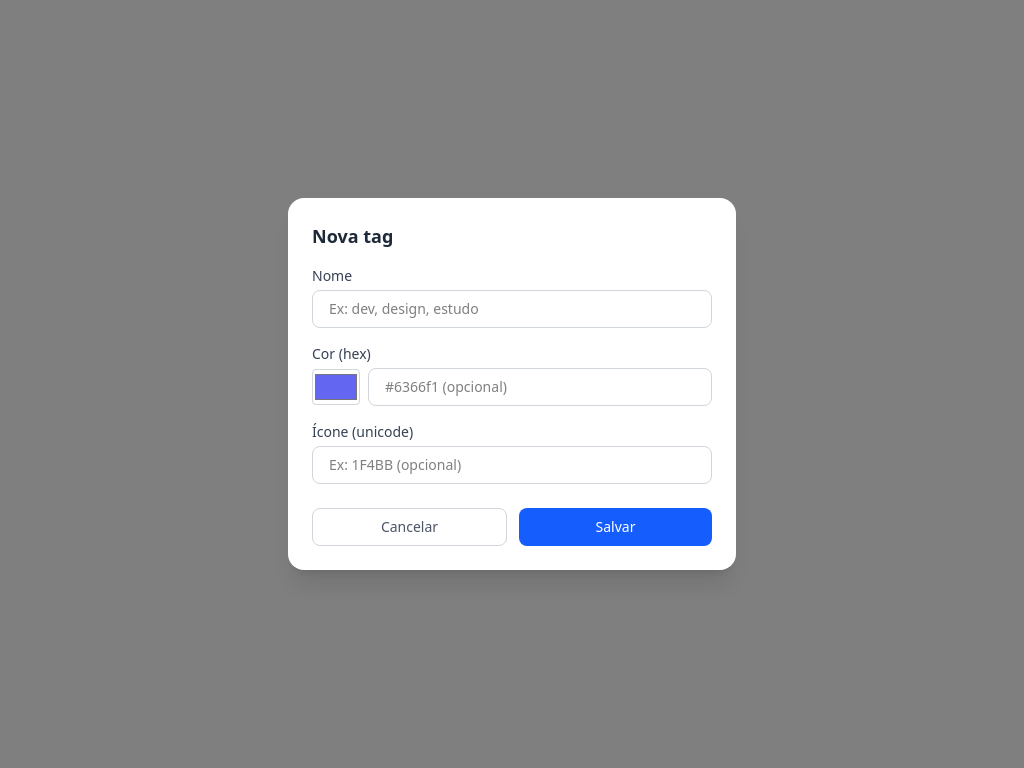
Test: TagModal › criação de tag › deve exibir erro quando a API falhar
Type "dev" into the field with placeholder "Ex: dev, design, estudo". click: (512, 309)
box: [312,290,712,328]
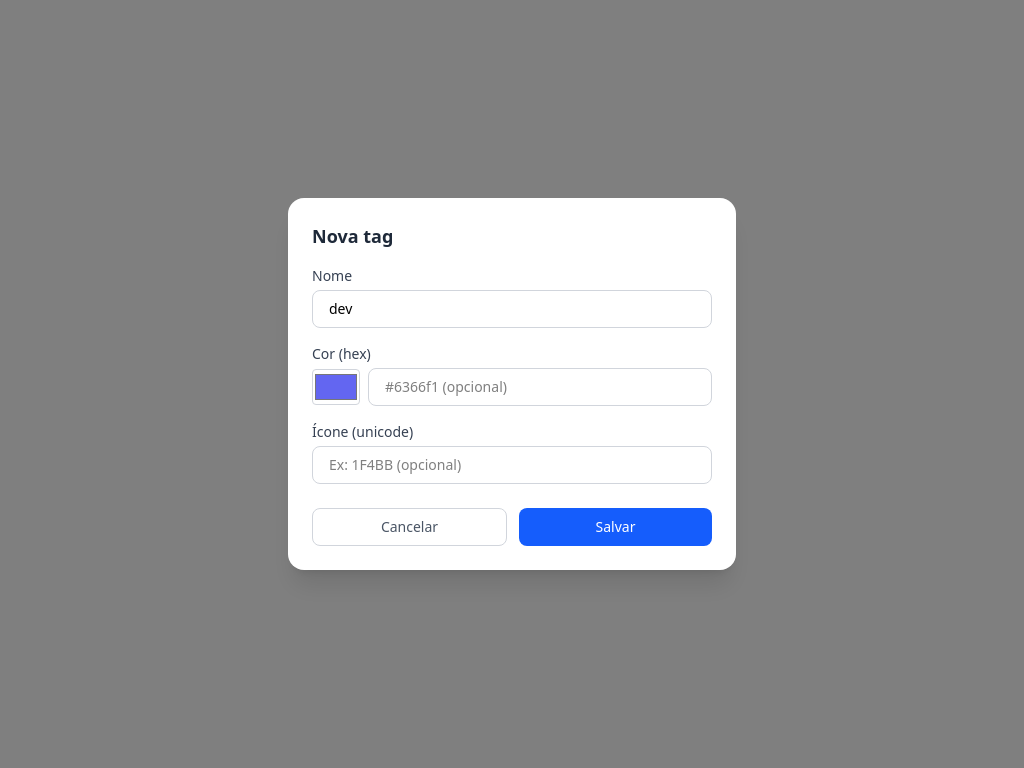
Click the button "Salvar". click: (616, 527)
box: [519,508,712,546]
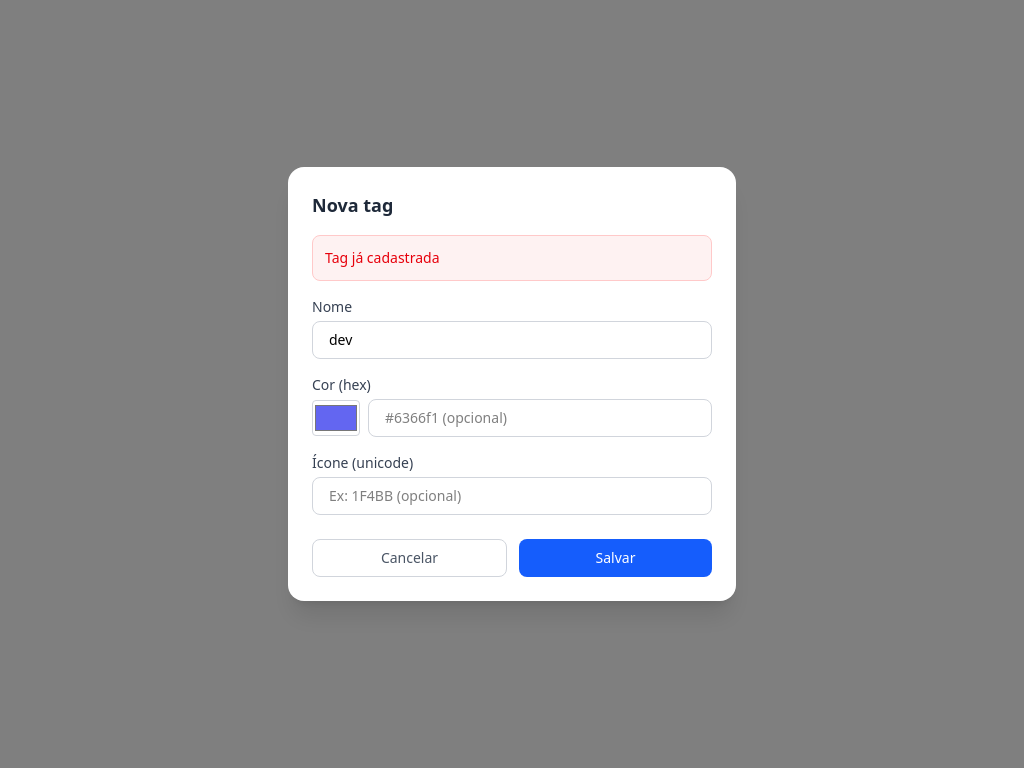
Check: the text "Tag já cadastrada" is shown, box [312,235,712,281]
